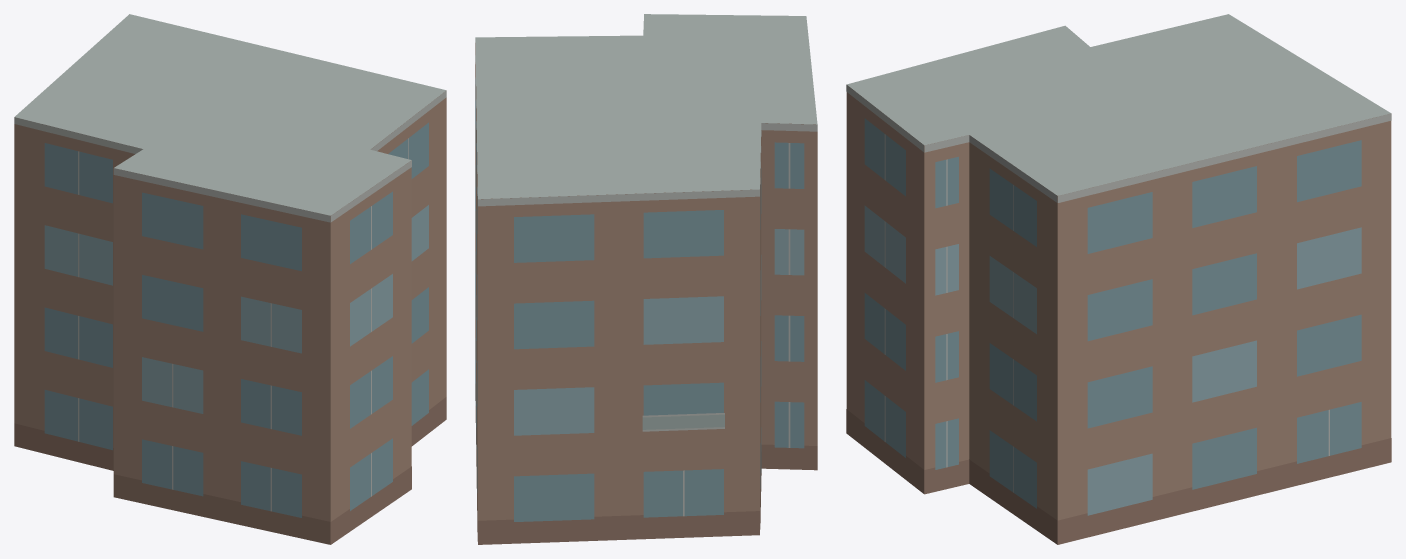
Rendered from survey-upis-32615273.glb.
3 views of the same model, side by side, from view 1: azimuth 30°, elevation 25°; view 2: azimuth 150°, elevation 25°; view 3: azimuth 270°, elevation 25° (orthographic). The views are drawn at different scales.
Visible parts, largest first — view 1: survey-upis-32615273.tmp; view 2: survey-upis-32615273.tmp; view 3: survey-upis-32615273.tmp.
Boxes of the visible parts, <box> form: survey-upis-32615273.tmp: <box>14,14,446,544</box>; survey-upis-32615273.tmp: <box>475,14,817,544</box>; survey-upis-32615273.tmp: <box>846,14,1391,544</box>.
Size of the model in its own units: 13.09 by 11.7 by 16.57.
